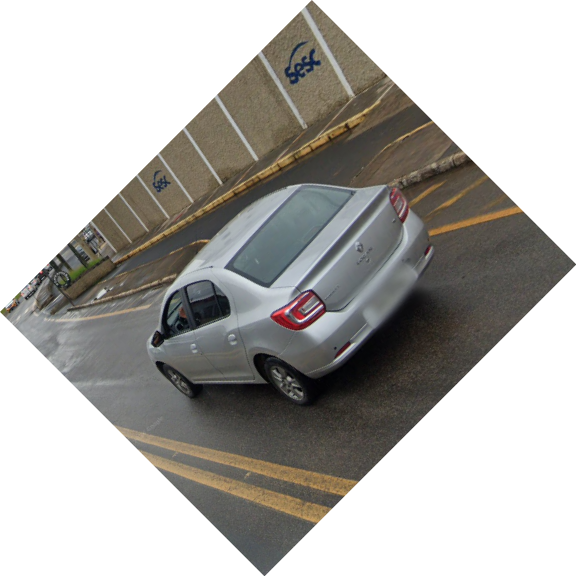car: (143, 179, 438, 426)
